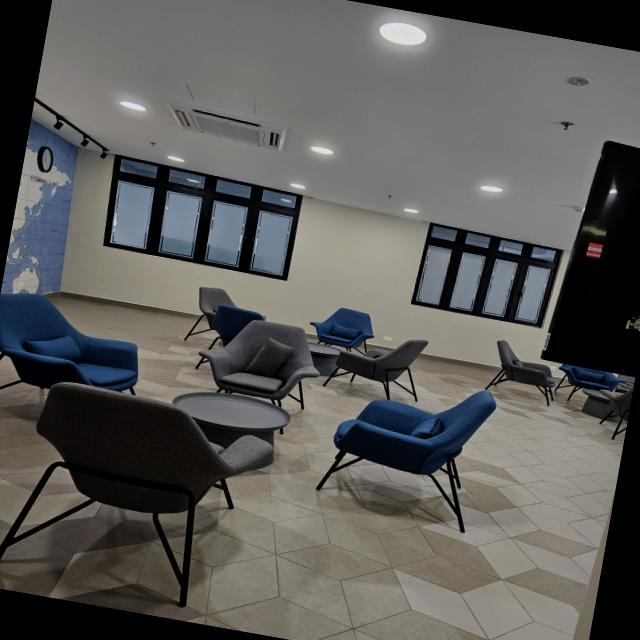obstacle: (0, 273, 505, 640)
